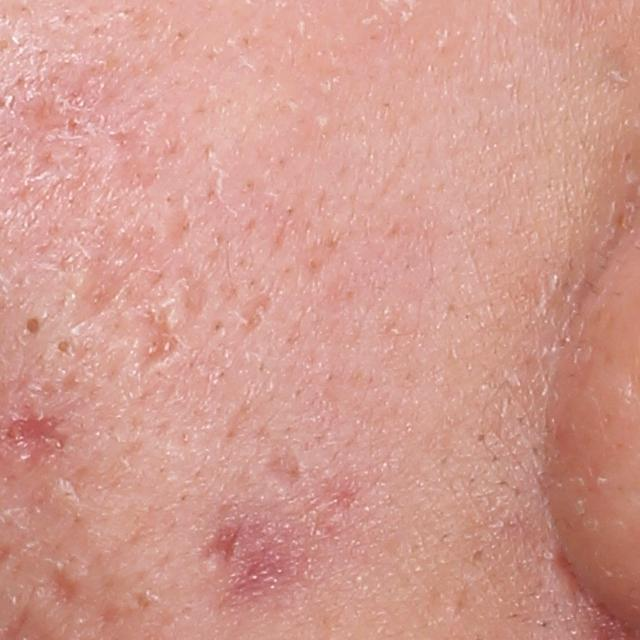atrophic_scar: (70, 209, 190, 330), (133, 307, 191, 381), (1, 411, 75, 454), (257, 436, 303, 502), (20, 91, 78, 130), (200, 515, 246, 564)
comedo: (54, 334, 75, 358), (22, 317, 43, 339)
